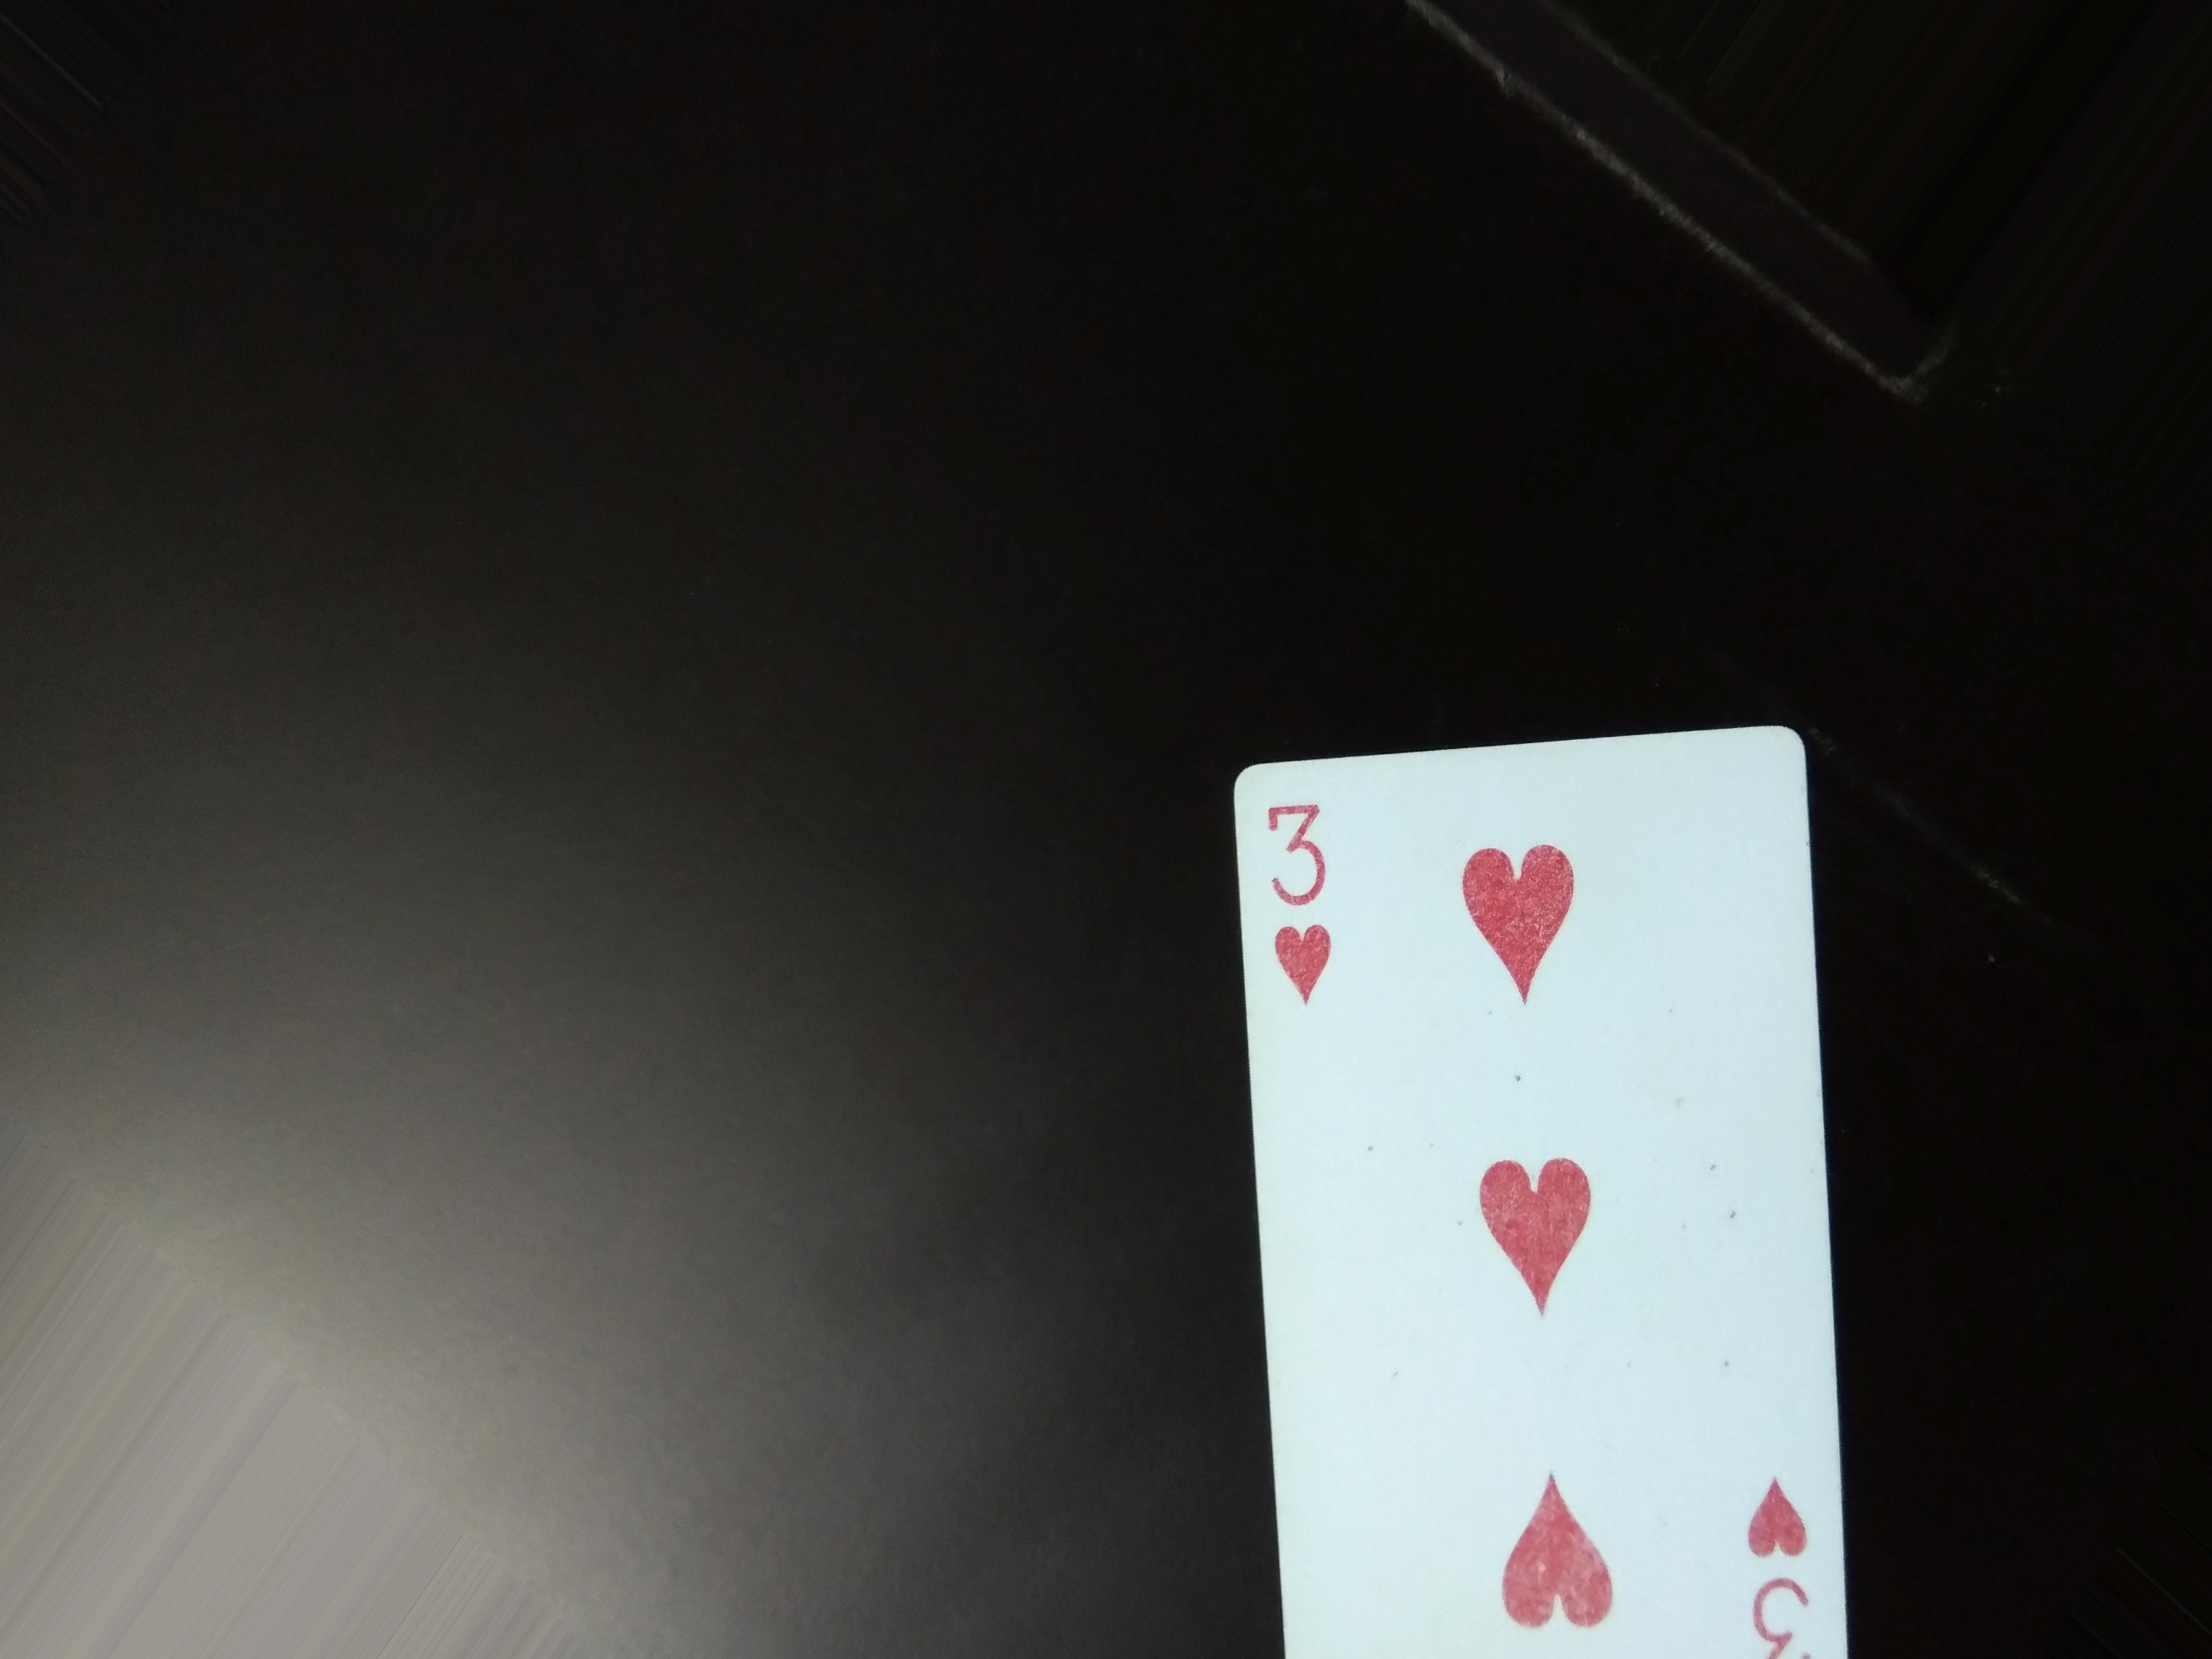3H: (1245, 789, 1348, 1023)
